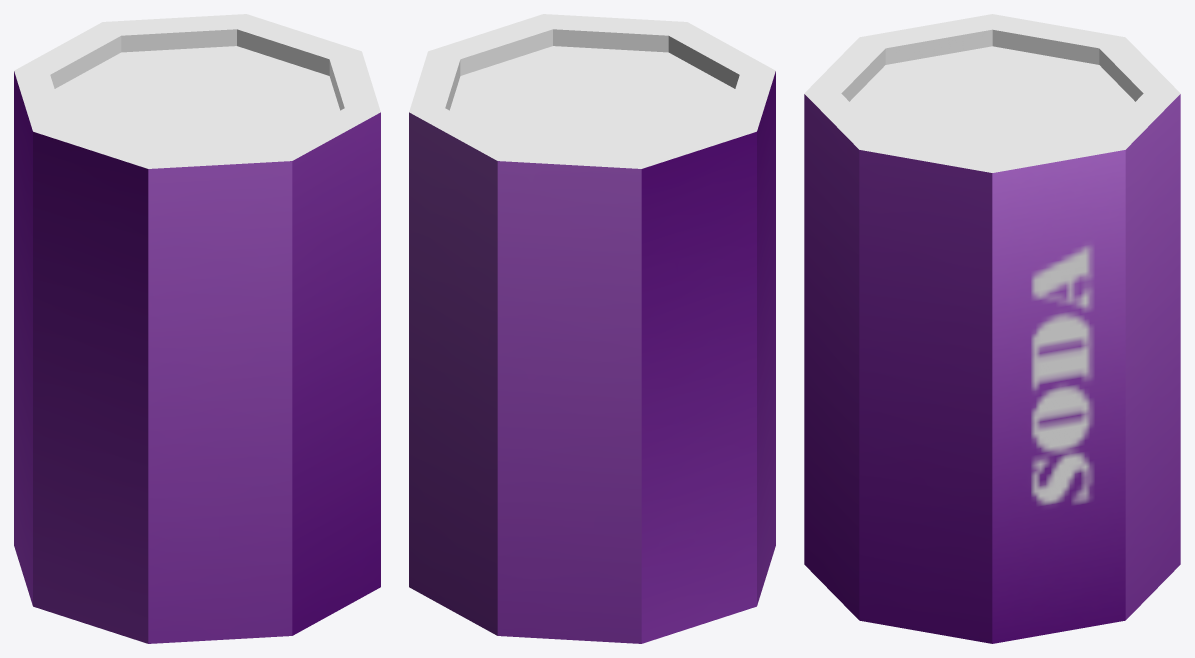
Rendered from Soda3.obj.
The picture shows the model from 3 angles, left to right: view 1: azimuth 30°, elevation 25°; view 2: azimuth 150°, elevation 25°; view 3: azimuth 270°, elevation 25°; orthographic projection.
Visible parts, largest first — view 1: Soda3_Cylinder.003; view 2: Soda3_Cylinder.003; view 3: Soda3_Cylinder.003.
Part boxes in pixels (box(x1,y1,x2,y2)): Soda3_Cylinder.003: box(14, 14, 380, 643); Soda3_Cylinder.003: box(409, 14, 775, 643); Soda3_Cylinder.003: box(804, 14, 1180, 643).
Bounding box in the file's own units: 0.1974 × 0.2724 × 0.1974.
